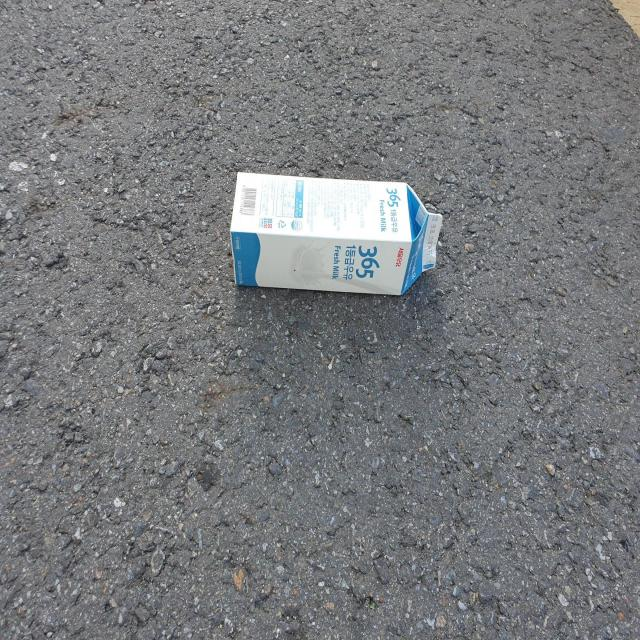paperpack: (231, 172, 443, 294)
